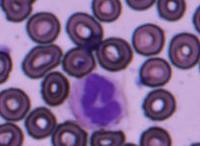N: (70, 72, 130, 131)
